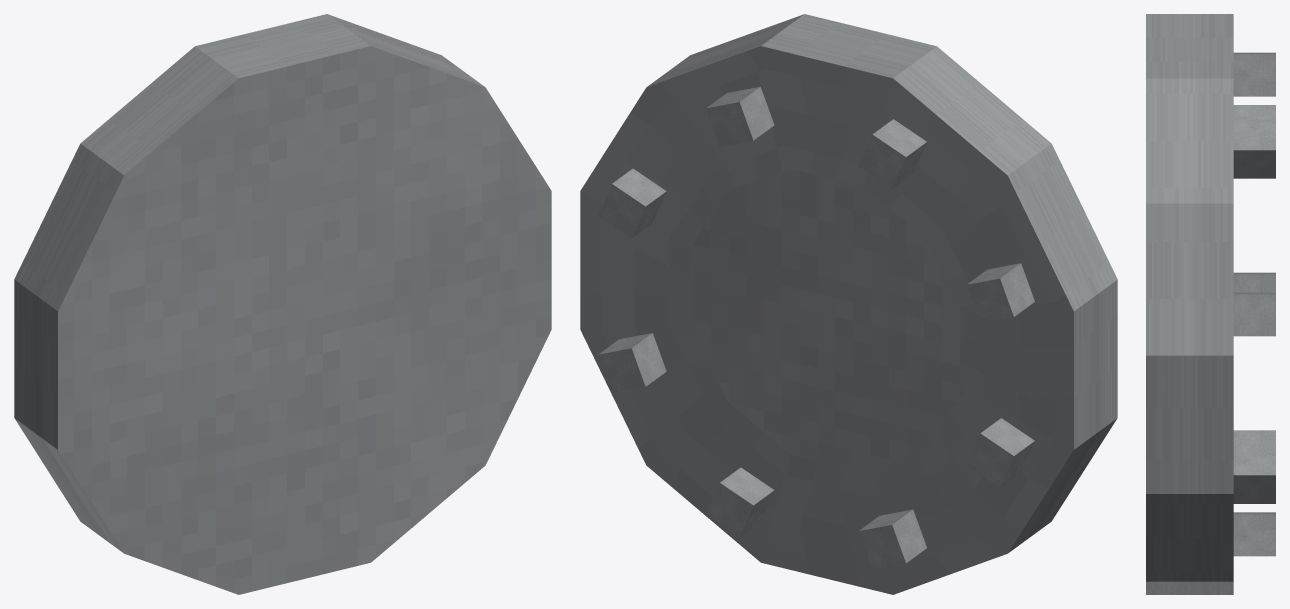
Rendered from port_south.obj.
3 renders of one model, left to right at view 1: azimuth 30°, elevation 25°; view 2: azimuth 150°, elevation 25°; view 3: azimuth 270°, elevation 25°, orthographic.
Bounding box in the file's own units: 0.8125 × 0.8125 × 0.185.
